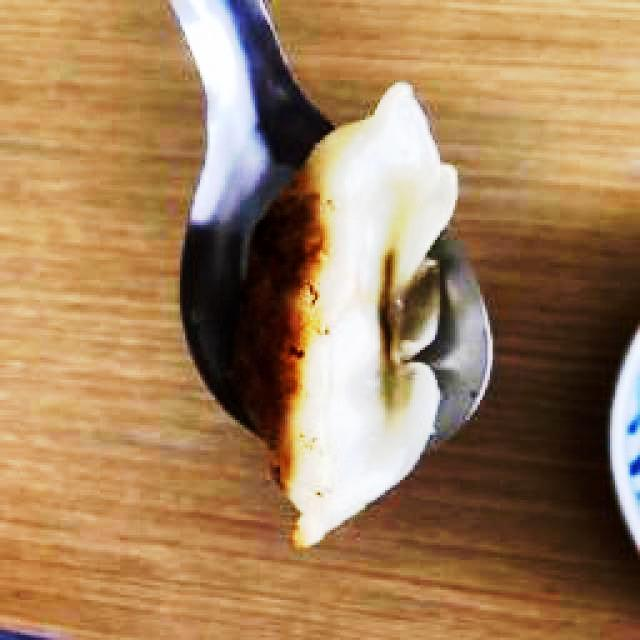fried_dumplings: (224, 79, 466, 549)
